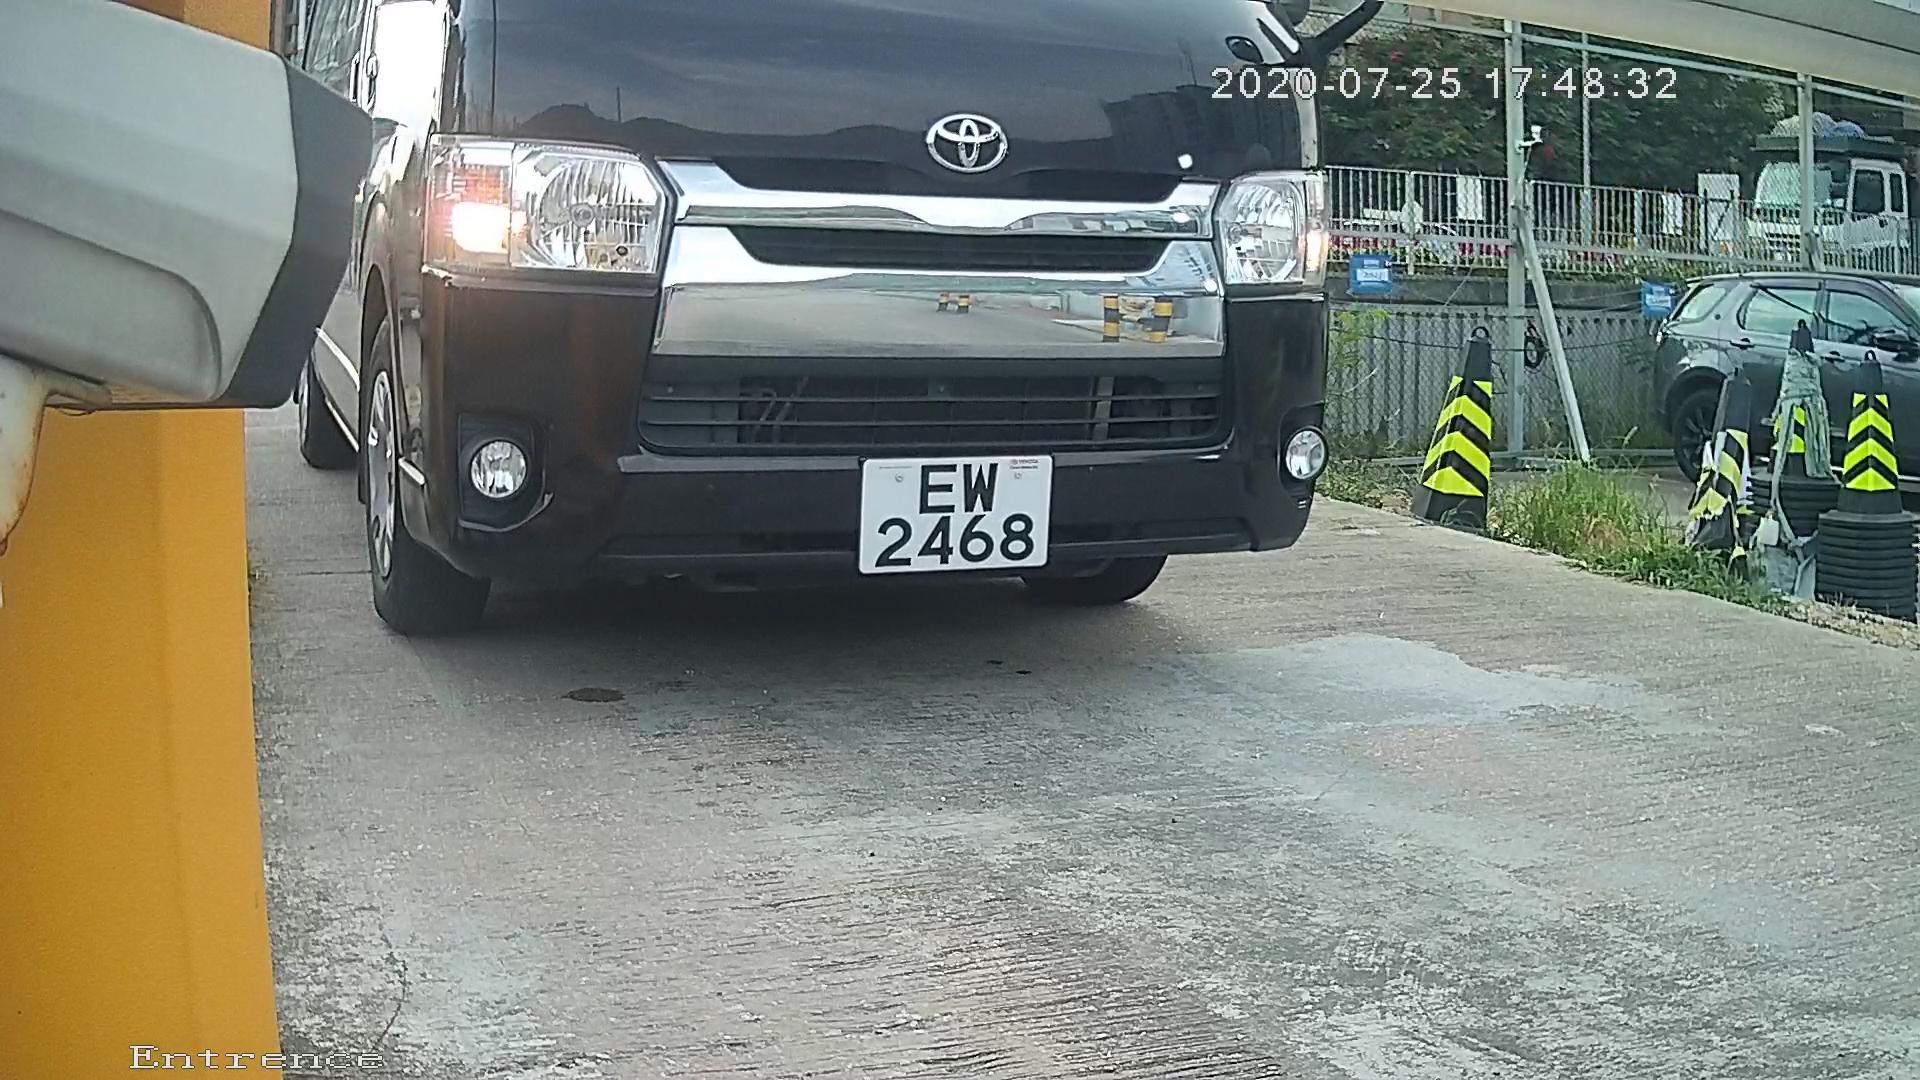Car: (103, 5, 1458, 700)
License Plate: (849, 449, 1072, 584)
